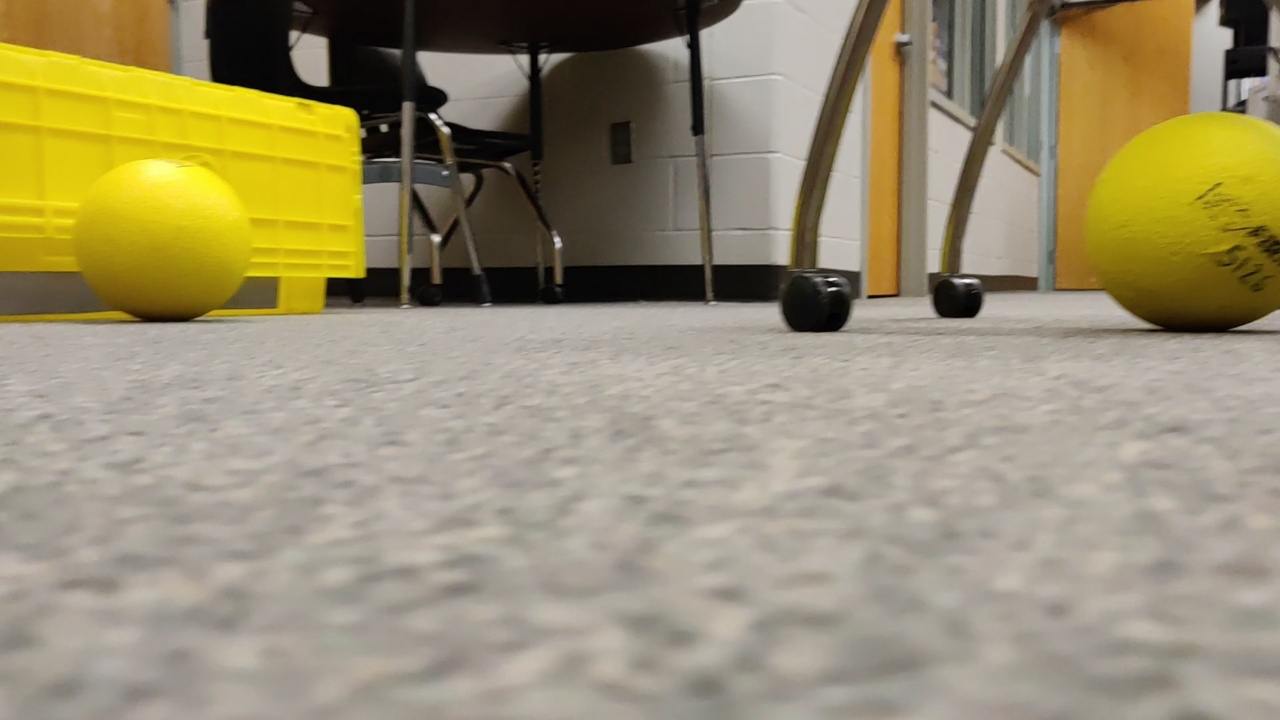Ball: (1082, 103, 1280, 332), (67, 157, 256, 318)
